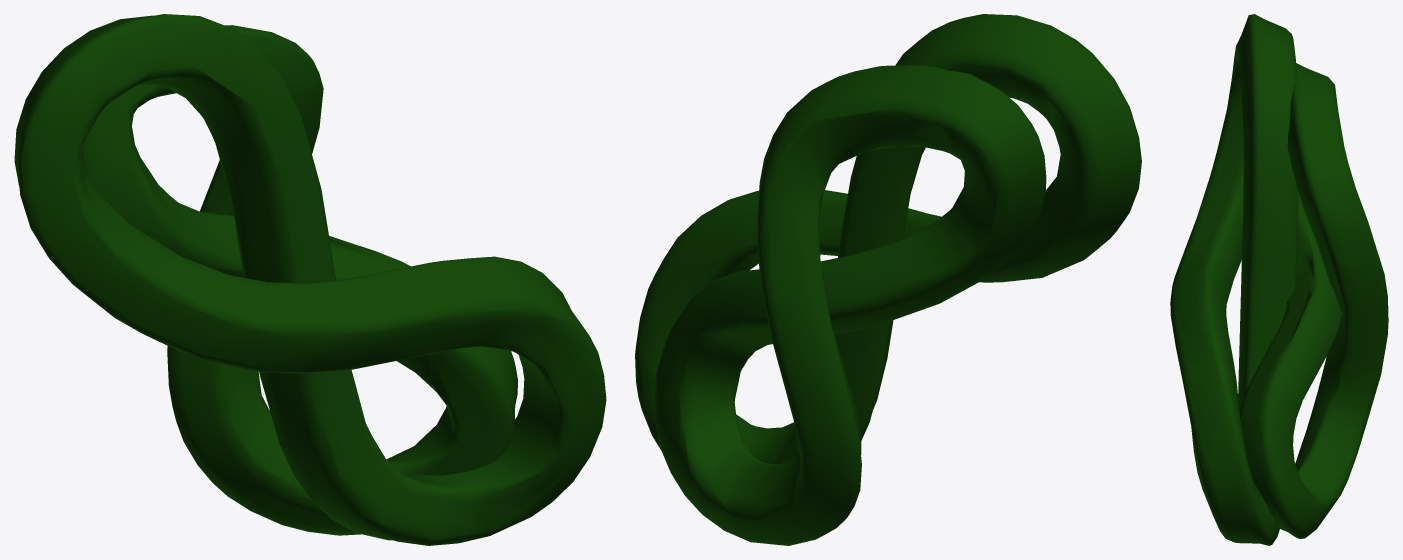
Rendered from WeakRope.fbx.
3 views of the same model, side by side, from view 1: azimuth 30°, elevation 25°; view 2: azimuth 150°, elevation 25°; view 3: azimuth 270°, elevation 25° (orthographic). The views are drawn at different scales.
Parts seen in each view (by area): view 1: WeakRope; view 2: WeakRope; view 3: WeakRope.
Part boxes in pixels (x1,y1,x2,y2): WeakRope: (14, 14, 606, 545); WeakRope: (635, 14, 1141, 545); WeakRope: (1170, 14, 1388, 545).
Size of the model in its own units: 198 by 207 by 98.22.
